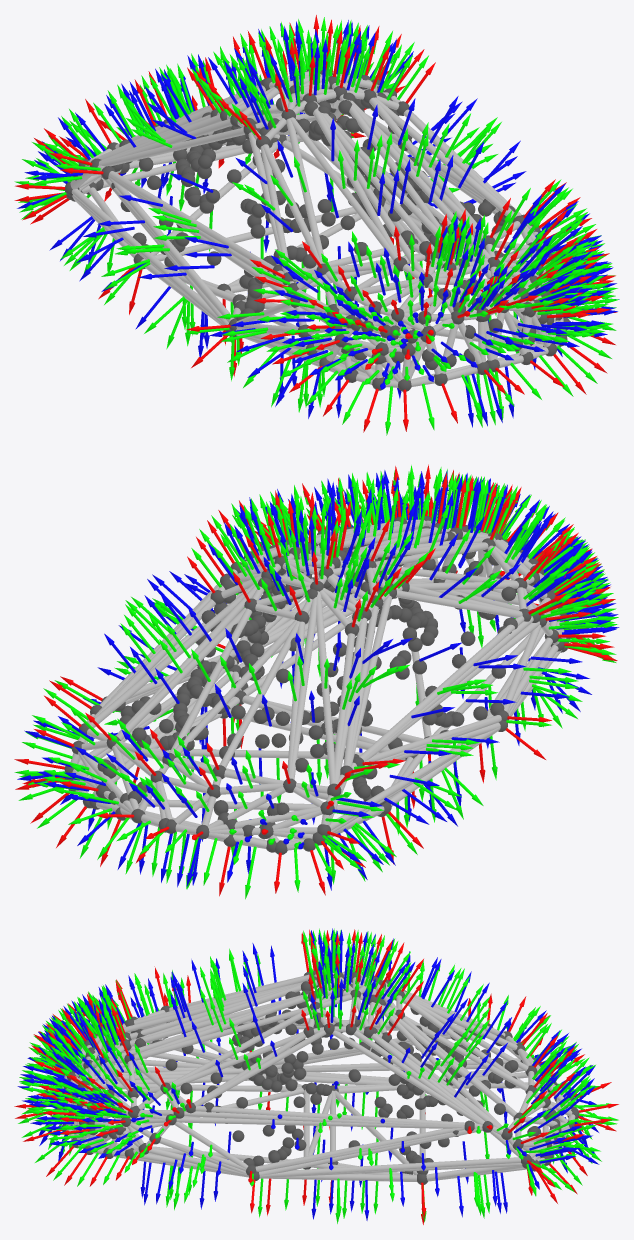
Rendered from author1_car.gltf.
3 views of the same model, one above another, from view 1: azimuth 30°, elevation 25°; view 2: azimuth 150°, elevation 25°; view 3: azimuth 270°, elevation 25° (orthographic). The views are drawn at different scales.
Size of the model in its own units: 0.5765 by 0.4347 by 1.02.
